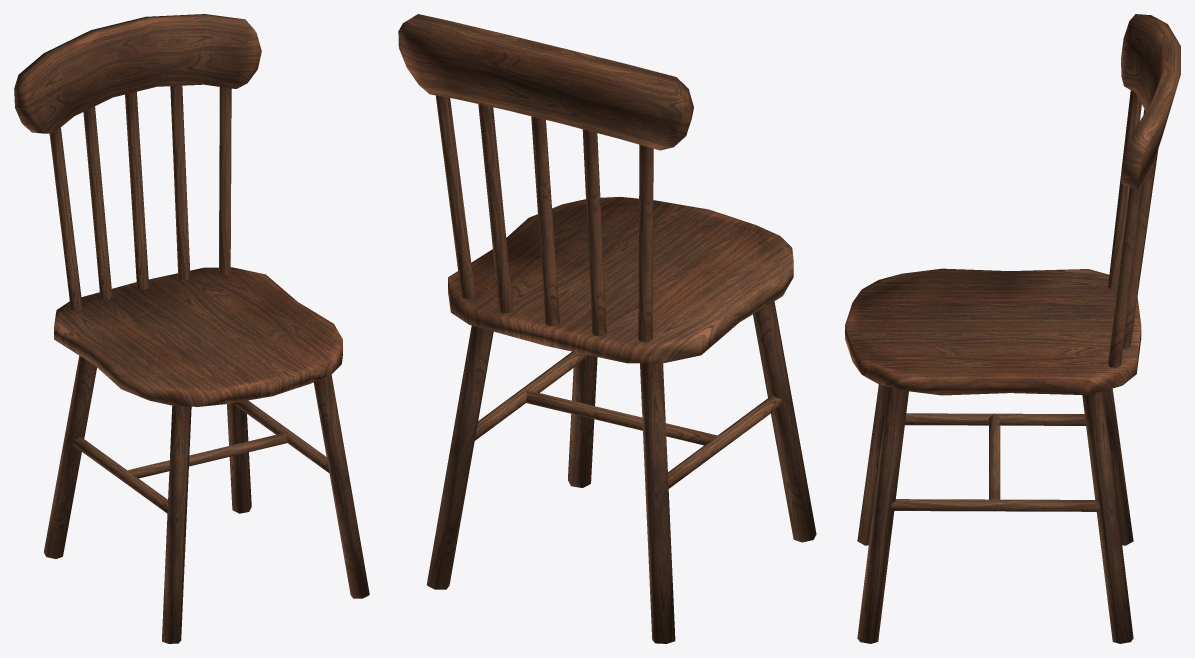
The model's file is chair.obj.
The picture shows the model from 3 angles, left to right: view 1: azimuth 30°, elevation 25°; view 2: azimuth 150°, elevation 25°; view 3: azimuth 270°, elevation 25°; orthographic projection. The views are drawn at different scales.
Visible parts, largest first — view 1: Model001_Model001_5_chair_1.0_0.0_0.0; view 2: Model001_Model001_5_chair_1.0_0.0_0.0; view 3: Model001_Model001_5_chair_1.0_0.0_0.0.
Part boxes in pixels (left/top/right/bottom): Model001_Model001_5_chair_1.0_0.0_0.0: left=14, top=14, right=369, bottom=643; Model001_Model001_5_chair_1.0_0.0_0.0: left=398, top=14, right=816, bottom=643; Model001_Model001_5_chair_1.0_0.0_0.0: left=845, top=14, right=1180, bottom=643.
Size of the model in its own units: 0.4793 by 0.9246 by 0.527.
